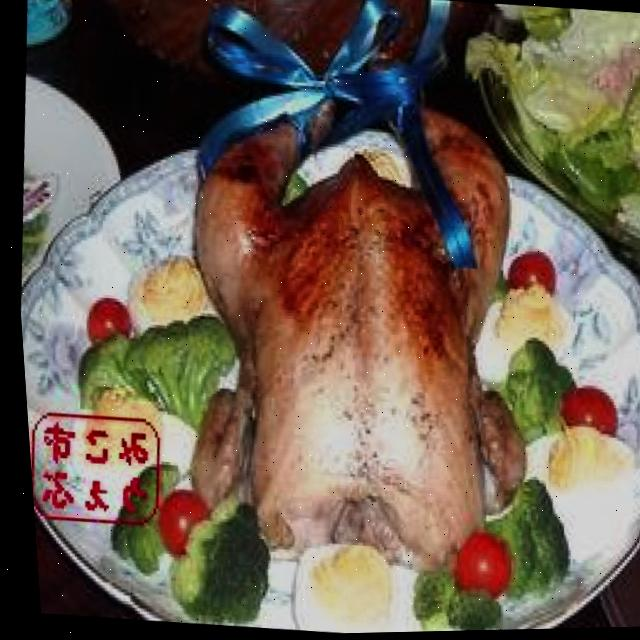鸡肉料理 含炸鸡: (7, 124, 464, 640)
